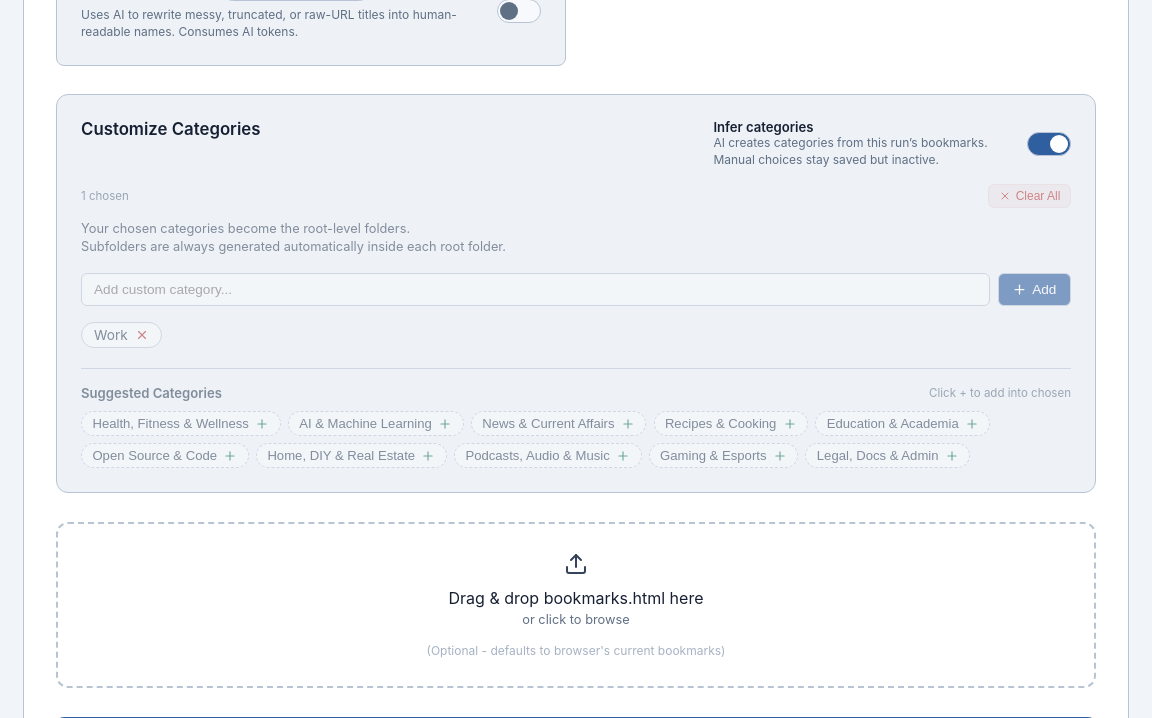
Scenario: Organizer Component UI Tests › persists disabling inferred categories and restores the saved manual controls
(page scrolled)
Click the switch named "Infer categories". click: coordinates (1049, 144)
box: [1027,132,1071,156]
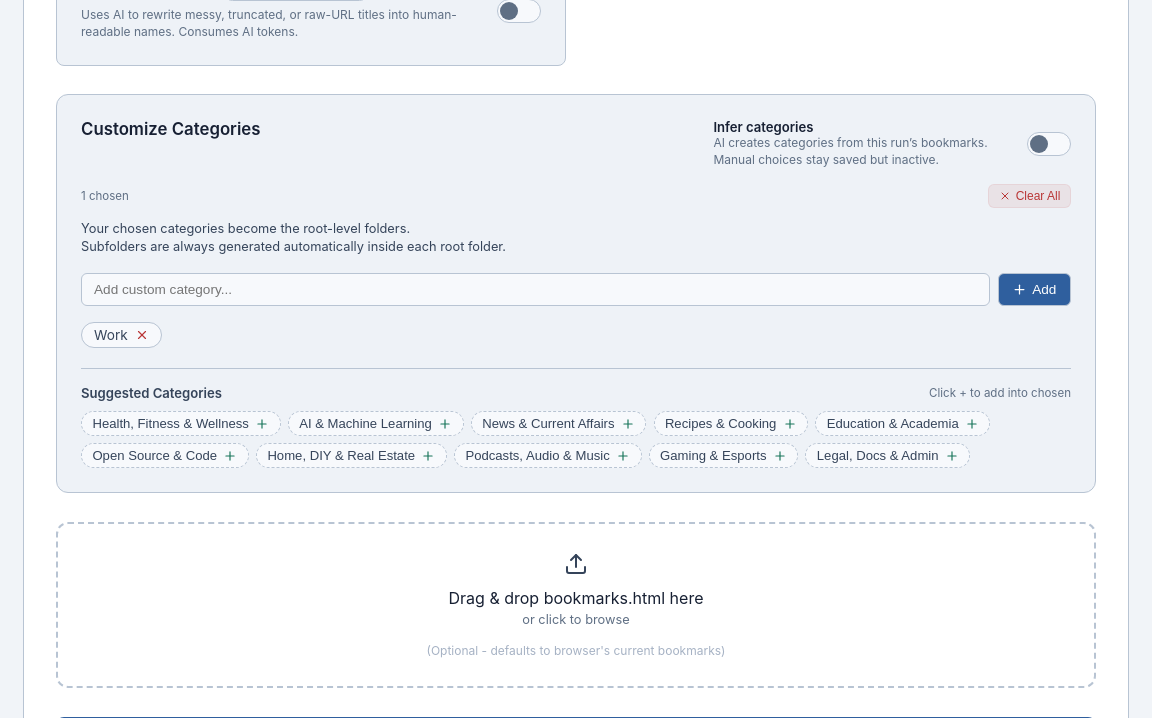
Expected: the text "Work" is shown, [94,327,128,343]
Result: the field with placeholder "Add custom category..." is enabled at [81,273,990,306]
